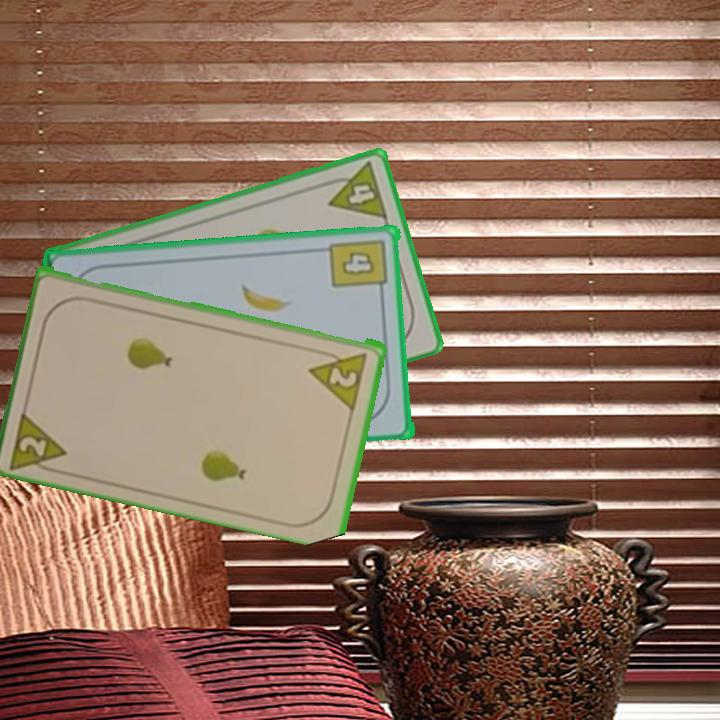2p: (6, 404, 71, 477), (326, 362, 361, 390)
4b: (327, 235, 391, 299)
4p: (319, 158, 391, 222)
